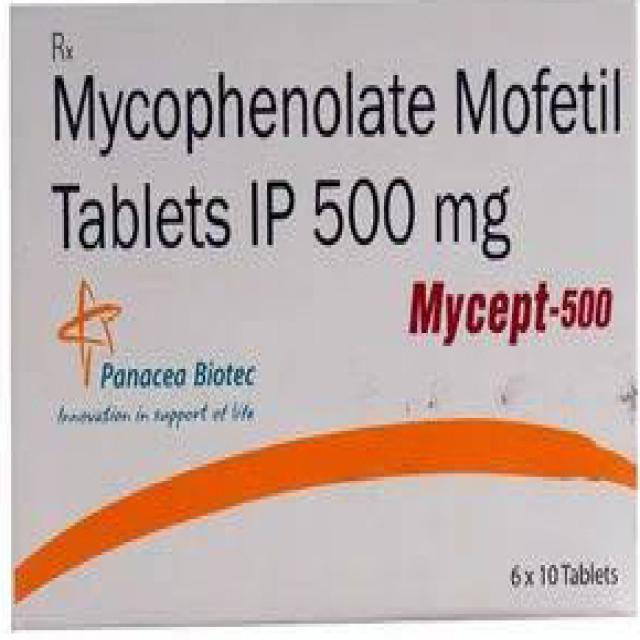drug-name: (402, 276, 616, 344)
